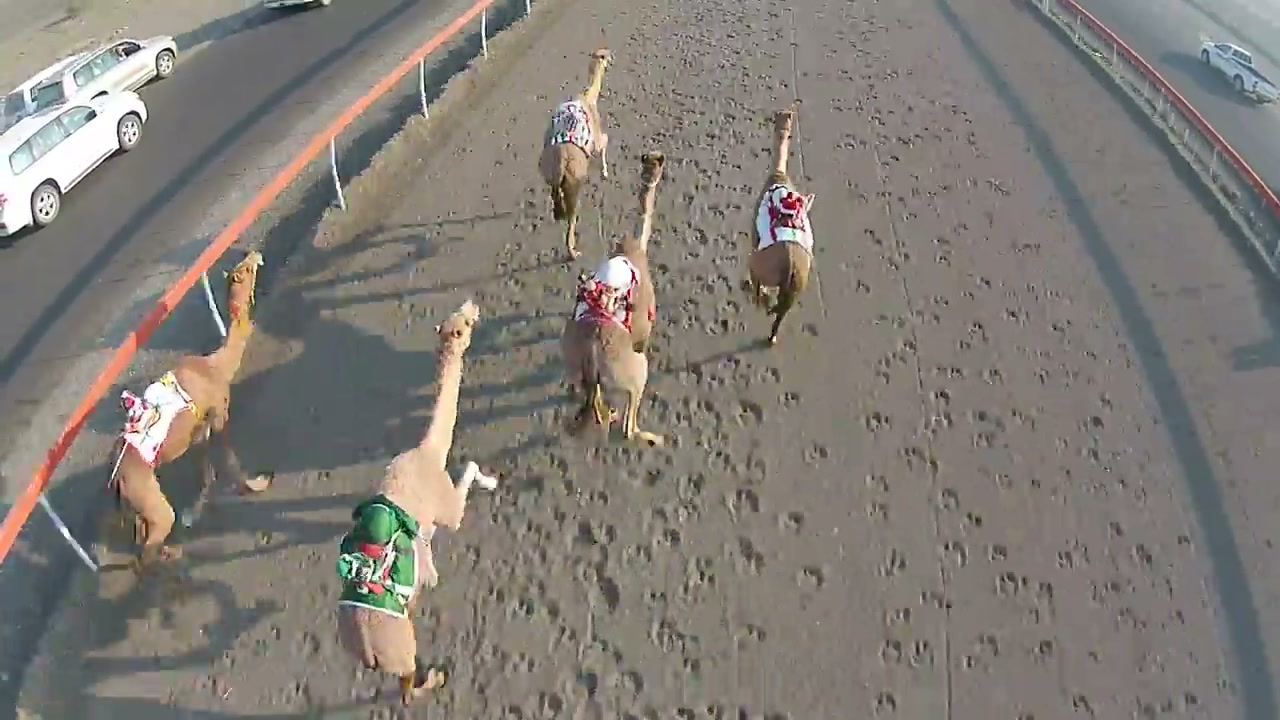animal_footprint: (495, 20, 850, 711), (840, 34, 1168, 704), (397, 215, 586, 713)
